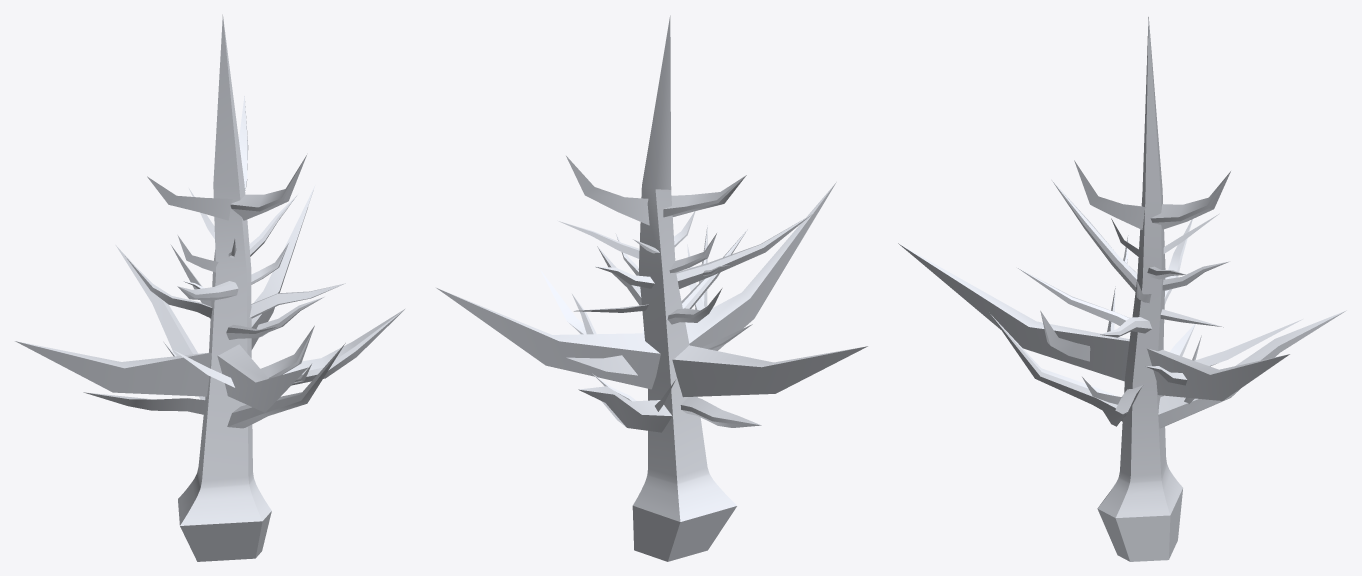
File: tree3.fbx
3 renders of one model, left to right at view 1: azimuth 30°, elevation 25°; view 2: azimuth 150°, elevation 25°; view 3: azimuth 270°, elevation 25°, orthographic.
Visible parts, largest first — view 1: tree.030; view 2: tree.030; view 3: tree.030.
Part boxes in pixels (left/top/right/bottom): tree.030: left=15, top=14, right=405, bottom=561; tree.030: left=436, top=15, right=867, bottom=561; tree.030: left=898, top=17, right=1346, bottom=561.
Bounding box in the file's own units: 8848 × 12335 × 9444.
1 material, 1 textured.
